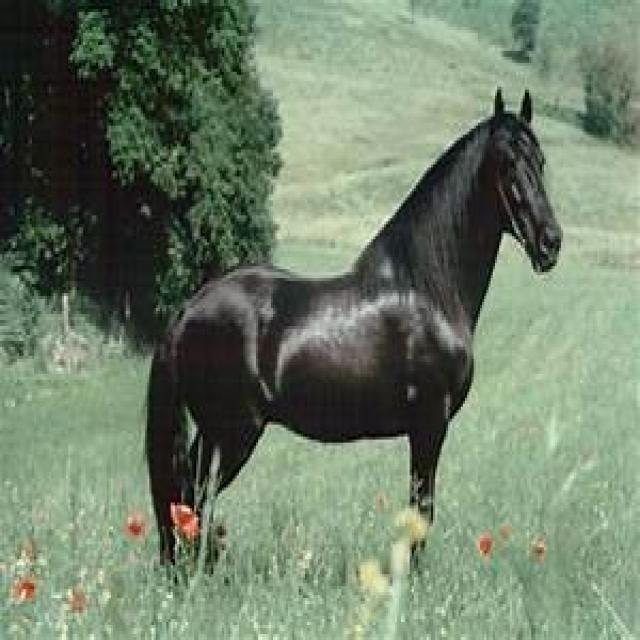horse: (143, 90, 565, 568)
